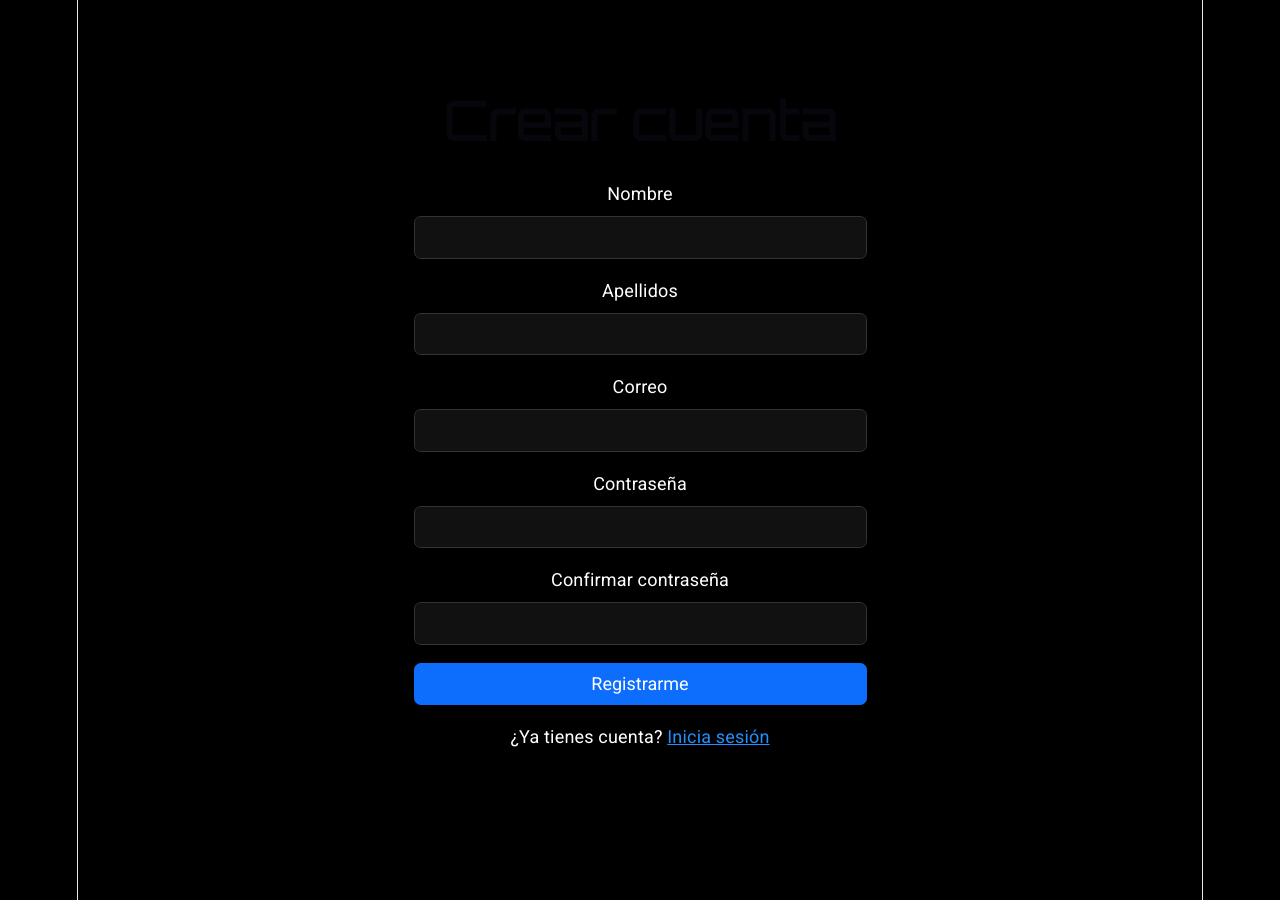
Test: Registro › muestra errores al enviar el formulario vacío
This screenshot has width=1280, height=900.
What coordinates should you click on to do the following:
click the button "Registrarme"
I would click on:
 (640, 684)
Its box is x1=414 y1=663 x2=866 y2=705.
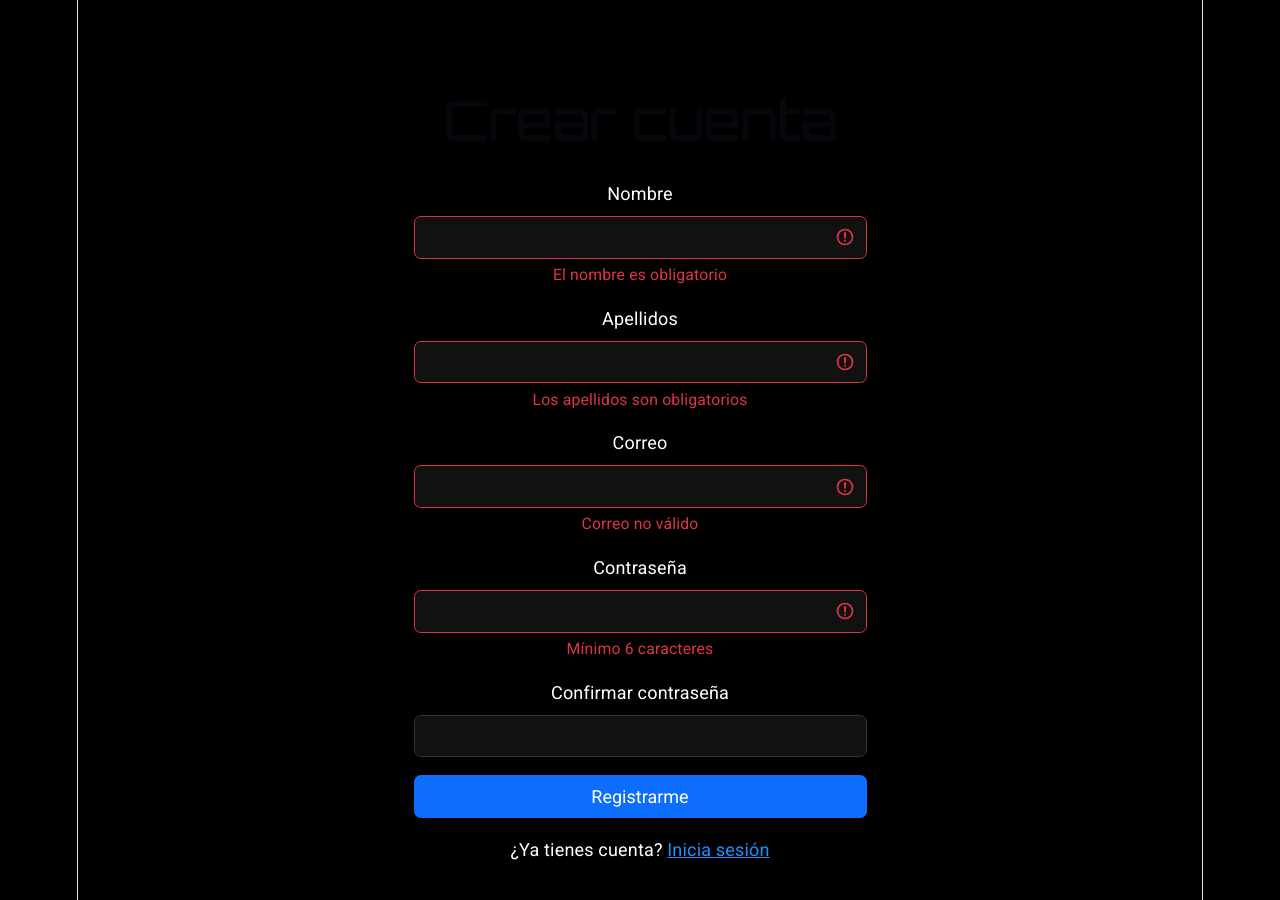
Expected: the text "El nombre es obligatorio" is shown, x1=553 y1=265 x2=727 y2=284
Expected: the text "Correo no válido" is shown, x1=582 y1=514 x2=699 y2=533
Expected: the text "Mínimo 6 caracteres" is shown, x1=566 y1=639 x2=713 y2=658
